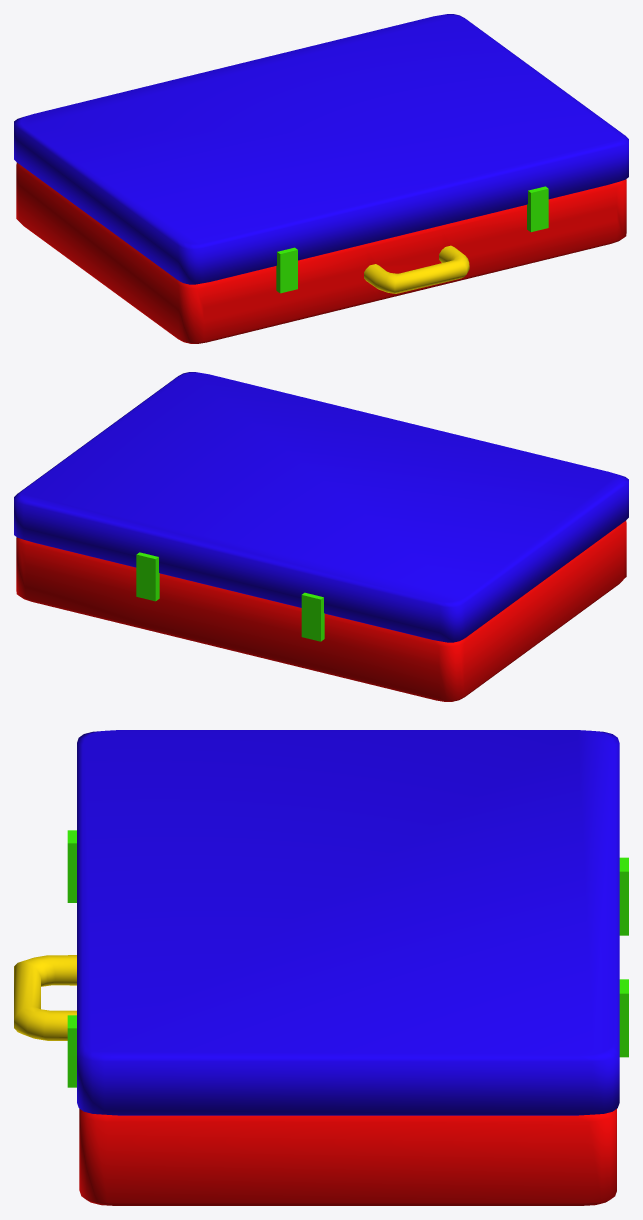
Rendered from SimsonSays.fbx.
The picture shows the model from 3 angles, top to bottom: view 1: azimuth 30°, elevation 25°; view 2: azimuth 150°, elevation 25°; view 3: azimuth 270°, elevation 25°; orthographic projection. The views are drawn at different scales.
Parts seen in each view (by area): view 1: Box001.001, Box001; view 2: Box001.001, Box001; view 3: Box001.001, Box001.
Part boxes in pixels (box(x1,y1,x2,y2)): Box001.001: box(14, 14, 628, 293); Box001: box(16, 162, 626, 343); Box001.001: box(14, 372, 628, 642); Box001: box(16, 520, 626, 701); Box001.001: box(67, 730, 619, 1115); Box001: box(14, 857, 628, 1205).
Size of the model in its own units: 50.27 by 10.67 by 39.54.
